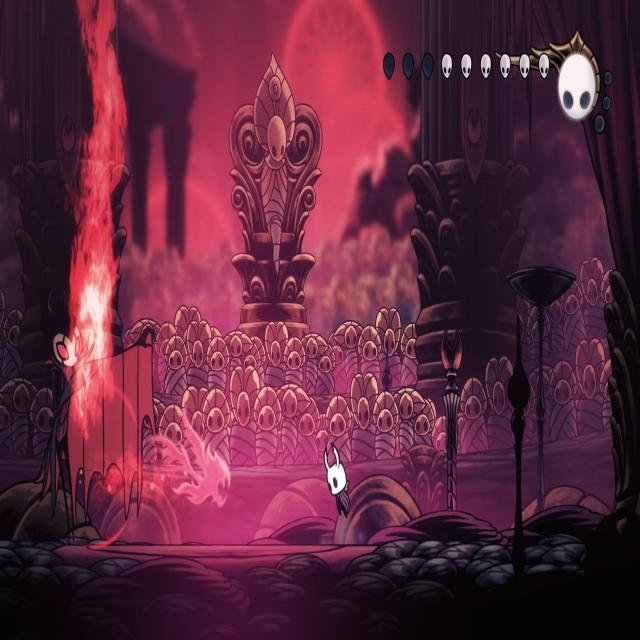Fire Bat: (155, 416, 230, 507)
Open Cloak: (33, 304, 162, 545)
Player: (322, 436, 354, 519)
